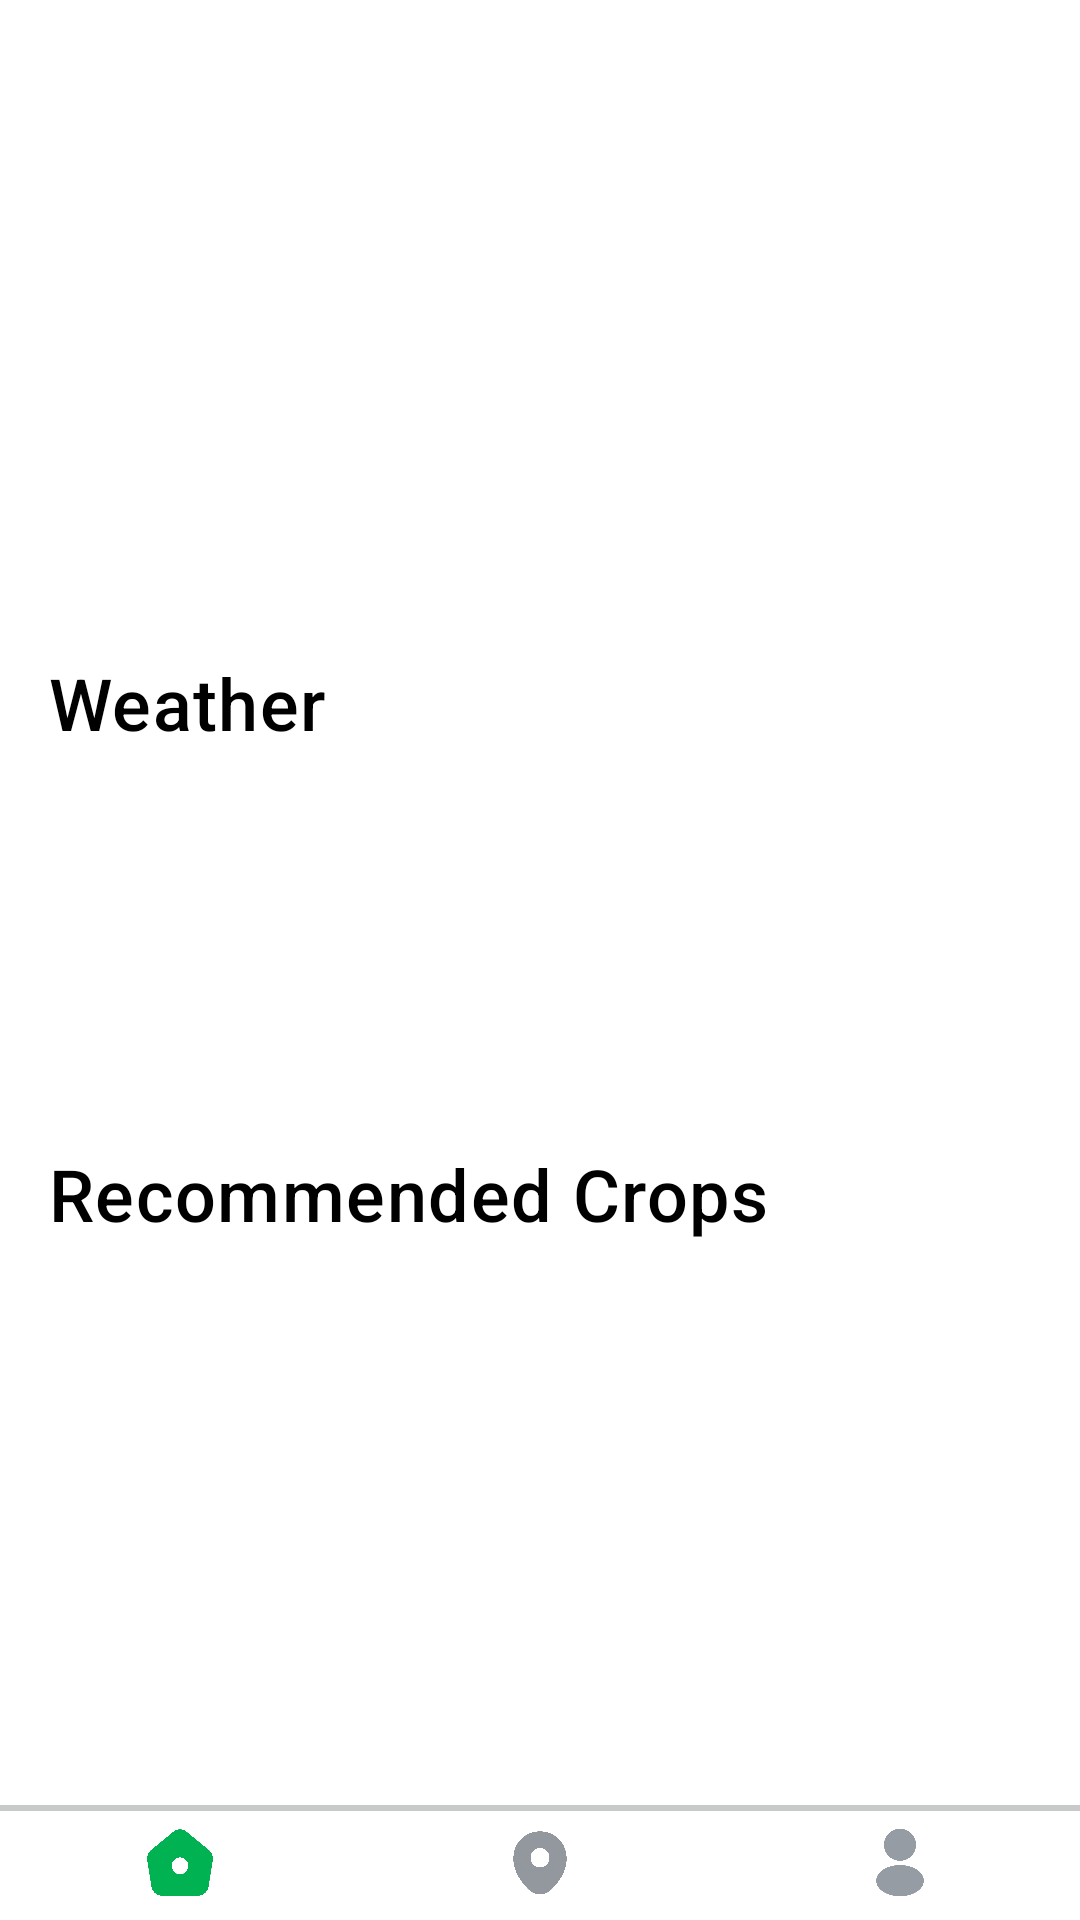

Point at icon controls on the screen. Image size 1080px×1920px, points as (x=x, y=y).
Home: (x=180, y=1862)
location: (x=540, y=1862)
